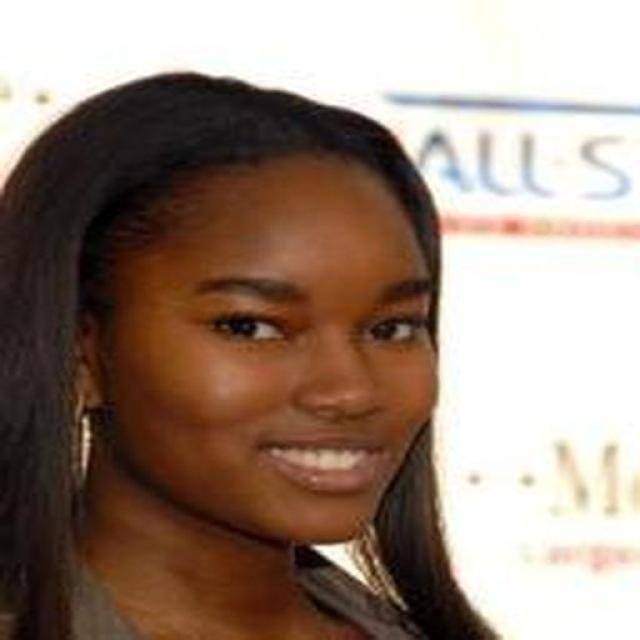bareface: (97, 138, 433, 556)
